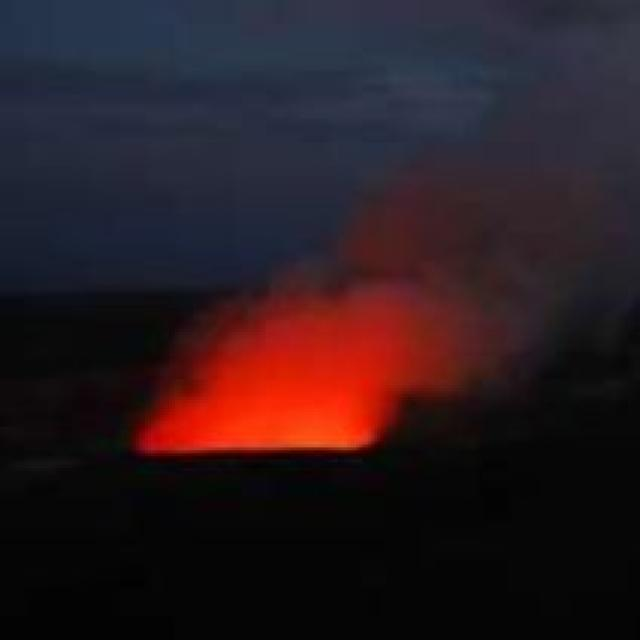Fire: (142, 300, 386, 458)
Smoke: (217, 0, 640, 385)
